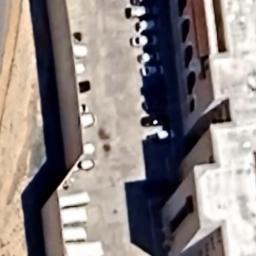sedan: (130, 31, 160, 50), (138, 64, 168, 78)
unknown: (138, 51, 163, 65)
